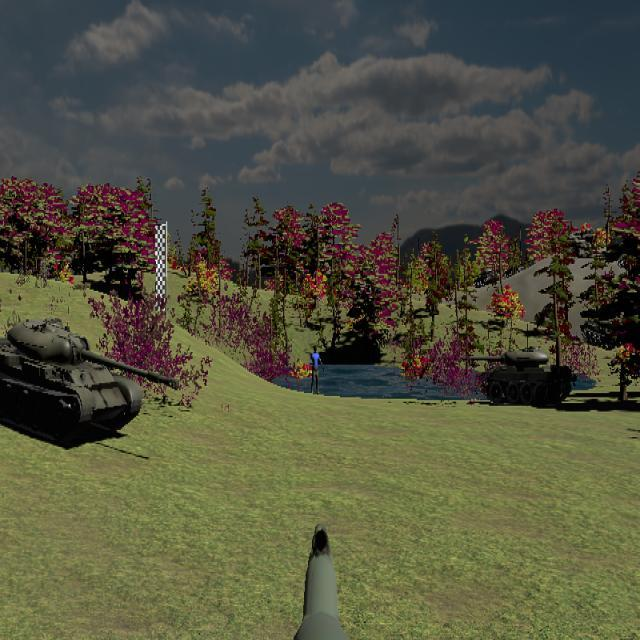Human: (308, 344, 325, 397)
Tank: (0, 314, 180, 446), (461, 346, 573, 408)
